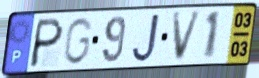1: (202, 9, 222, 62)
9: (100, 15, 128, 65)
G: (61, 16, 95, 67)
J: (130, 12, 162, 65)
P: (27, 16, 66, 70)
V: (171, 9, 204, 64)
